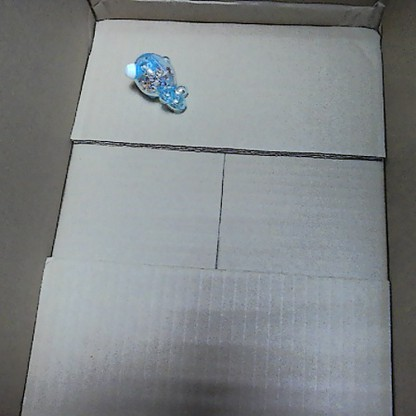bluefish: (122, 47, 190, 114)
